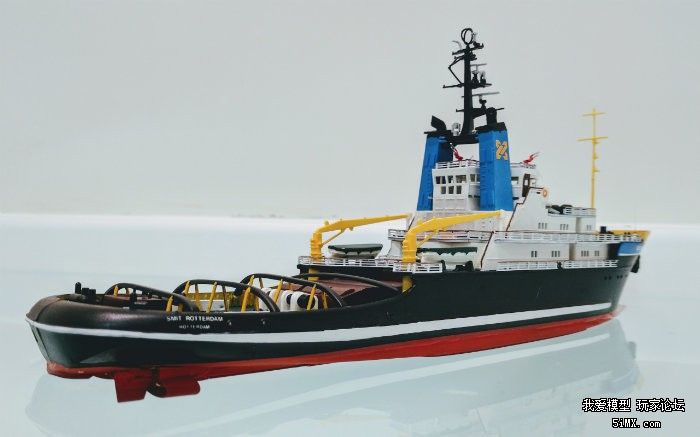otherboat: (19, 32, 648, 405)
